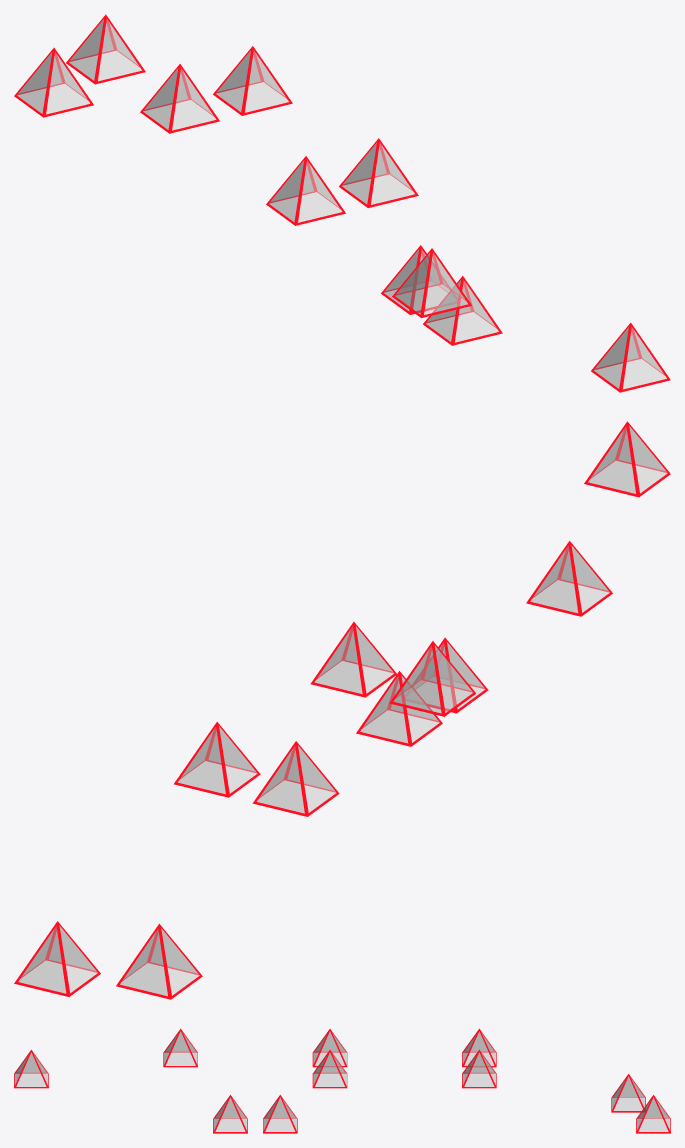
Rendered from (4)E Spike.fbx.
The picture shows the model from 3 angles, top to bottom: view 1: azimuth 30°, elevation 25°; view 2: azimuth 150°, elevation 25°; view 3: azimuth 270°, elevation 25°; orthographic projection. The views are drawn at different scales.
Parts seen in each view (by area): view 1: Spike..004, Spike..005, Spike..010, Spike..002, Spike..003, Spike..006, Spike..009, Spike..001, Spike..008, Spike..007; view 2: Spike..005, Spike..003, Spike..004, Spike..009, Spike..001, Spike..002, Spike..006, Spike..010, Spike..007, Spike..008; view 3: Spike..003, Spike..002, Spike..005, Spike..001, Spike..008, Spike..010, Spike..007, Spike..009, Spike..004, Spike..006.
Boxes of the visible parts, bbox=[...] form: Spike..004: bbox=[266, 156, 345, 225]; Spike..005: bbox=[213, 46, 292, 115]; Spike..010: bbox=[66, 14, 145, 84]; Spike..002: bbox=[392, 248, 471, 317]; Spike..003: bbox=[339, 138, 418, 207]; Spike..006: bbox=[140, 64, 219, 133]; Spike..009: bbox=[14, 47, 93, 117]; Spike..001: bbox=[591, 322, 670, 392]; Spike..008: bbox=[423, 276, 502, 345]; Spike..007: bbox=[381, 245, 450, 314]; Spike..005: bbox=[174, 722, 260, 797]; Spike..003: bbox=[310, 622, 397, 697]; Spike..004: bbox=[389, 641, 475, 716]; Spike..009: bbox=[116, 923, 202, 999]; Spike..001: bbox=[584, 421, 670, 497]; Spike..002: bbox=[526, 541, 612, 616]; Spike..006: bbox=[252, 741, 339, 816]; Spike..010: bbox=[14, 921, 100, 996]; Spike..007: bbox=[356, 671, 442, 746]; Spike..008: bbox=[413, 637, 488, 713]; Spike..003: bbox=[312, 1050, 347, 1088]; Spike..002: bbox=[163, 1028, 197, 1067]; Spike..005: bbox=[462, 1049, 496, 1088]; Spike..001: bbox=[14, 1050, 48, 1088]; Spike..008: bbox=[213, 1095, 247, 1133]; Spike..010: bbox=[636, 1095, 670, 1133]; Spike..007: bbox=[263, 1095, 297, 1133]; Spike..009: bbox=[611, 1074, 645, 1112]; Spike..004: bbox=[312, 1029, 347, 1067]; Spike..006: bbox=[462, 1028, 496, 1067].
Size of the model in its own units: 340 by 340 by 2640.
